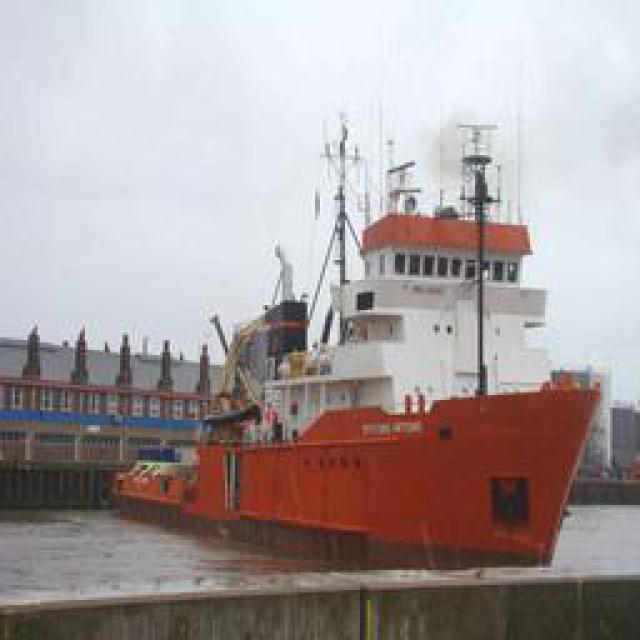Ship: (110, 99, 628, 579)
